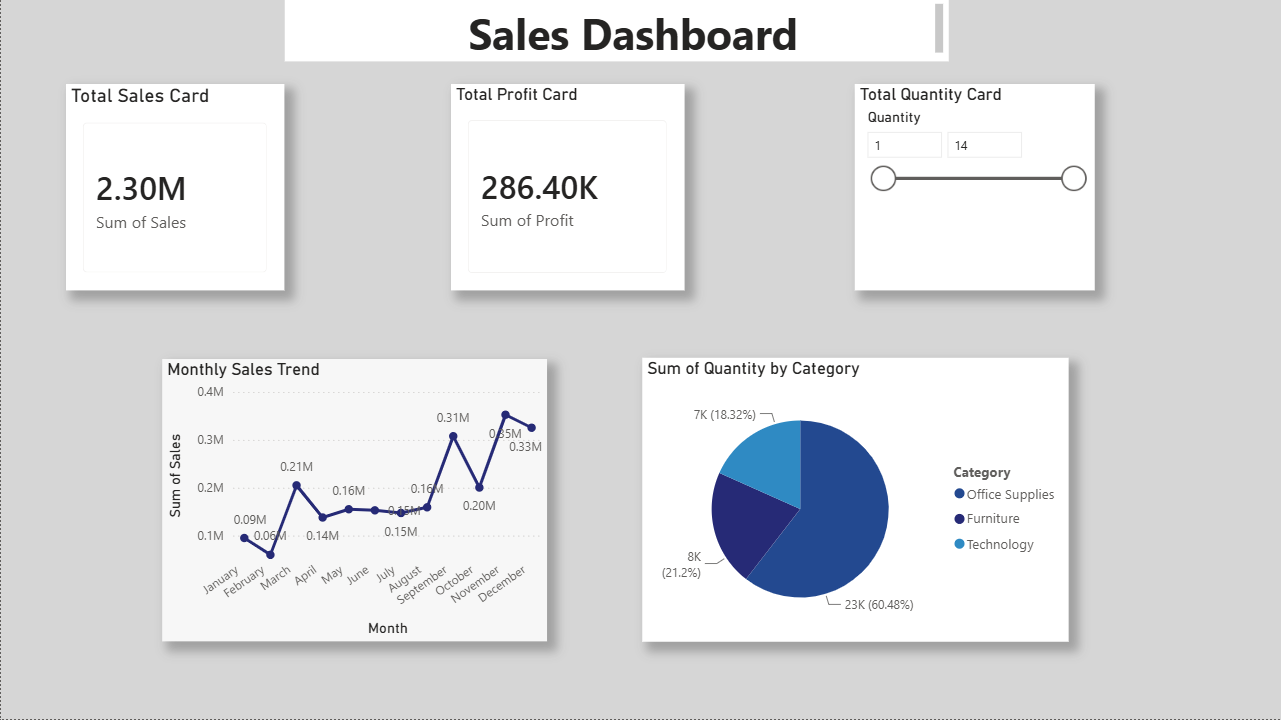

What the dashboard file says about the page in this screenshot:
{"tool":"powerbi","page":{"name":"Sales Dashboard","canvas":[1280,720],"ordinal":0},"visuals":[{"type":"cardVisual","title":"Total Sales Card","fields":{"Data":["Sum(Orders.Sales)"]},"box":[65,85,218.8,206.2],"z":0},{"type":"cardVisual","title":"Total Profit Card","fields":{"Data":["Sum(Orders.Profit)"]},"box":[450,85,233.8,206.2],"z":1},{"type":"slicer","title":"Total Quantity Card","fields":{"Values":["Orders.Quantity"]},"box":[853.8,85,240,206.2],"z":2},{"type":"textbox","box":[283.8,0,663.8,62.5],"z":3},{"type":"lineChart","title":"Monthly Sales Trend","fields":{"Category":["Orders.Order Date.Variation.Date Hierarchy.Month"],"Y":["Sum(Orders.Sales)"]},"box":[161.2,360,385,282.5],"z":4},{"type":"pieChart","fields":{"Category":["Orders.Category"],"Y":["Sum(Orders.Quantity)"]},"box":[641.2,358.8,426.2,283.8],"z":5}]}

Visuals, with their boxes in screenshot pixels (x1, y1, x2, y2), scaled from the page's 1280x720 canvas onto the 1281x720 screenshot:
"Total Sales Card" cardVisual: region(65, 85, 284, 291)
"Total Profit Card" cardVisual: region(450, 85, 684, 291)
"Total Quantity Card" slicer: region(854, 85, 1095, 291)
textbox: region(284, 0, 948, 62)
"Monthly Sales Trend" lineChart: region(161, 360, 547, 642)
pieChart - Orders.Category x Sum(Orders.Quantity): region(642, 359, 1068, 643)
